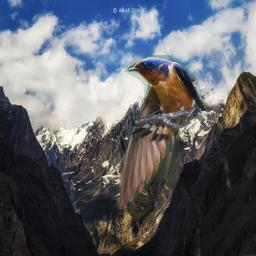Swallow: (115, 55, 213, 210)
